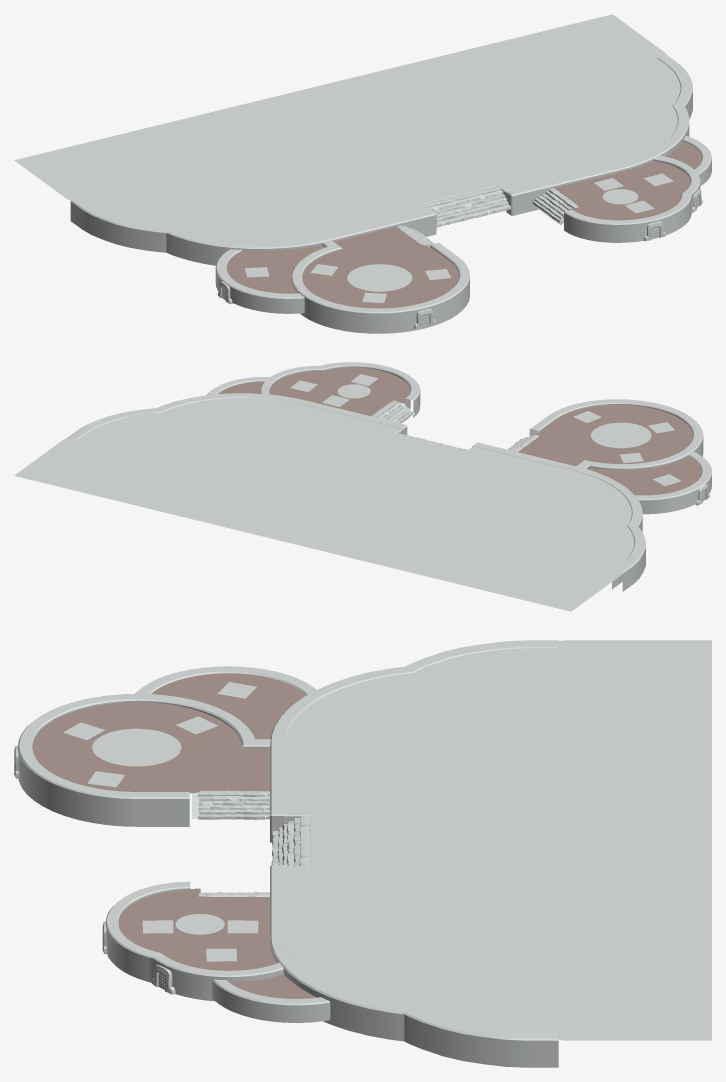
3 renders of one model, top to bottom at view 1: azimuth 30°, elevation 25°; view 2: azimuth 150°, elevation 25°; view 3: azimuth 270°, elevation 25°, orthographic. The views are drawn at different scales.
Parts seen in each view (by area): view 1: G:\FFXIV-MapTools\exports\y6f3\bg\ex5\02_ykt_y6\fld\y6f3\bgp (×6); view 2: G:\FFXIV-MapTools\exports\y6f3\bg\ex5\02_ykt_y6\fld\y6f3\bgp (×5); view 3: G:\FFXIV-MapTools\exports\y6f3\bg\ex5\02_ykt_y6\fld\y6f3\bgp (×6).
Boxes of the visible parts, x1,y1,x2,y2 form: G:\FFXIV-MapTools\exports\y6f3\bg\ex5\02_ykt_y6\fld\y6f3\bgp (×6): [14, 14, 711, 333]; G:\FFXIV-MapTools\exports\y6f3\bg\ex5\02_ykt_y6\fld\y6f3\bgp (×5): [14, 362, 711, 611]; G:\FFXIV-MapTools\exports\y6f3\bg\ex5\02_ykt_y6\fld\y6f3\bgp (×6): [17, 640, 711, 1067].
Size of the model in its own units: 78.12 by 2.75 by 57.53.
